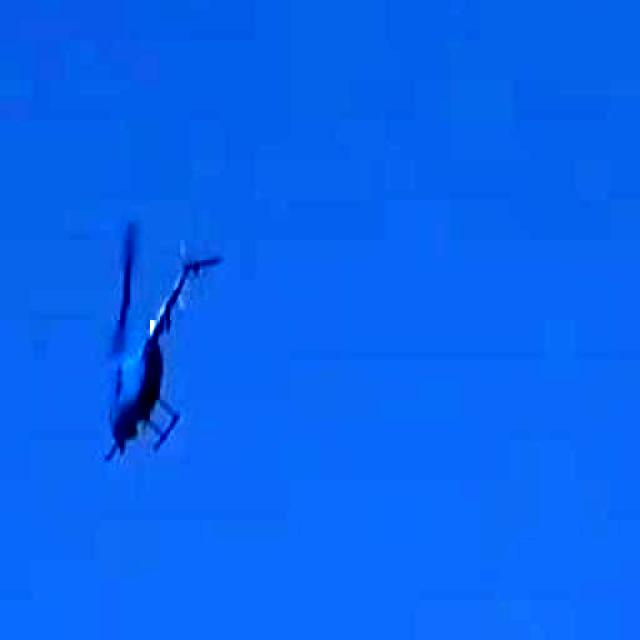drone: (38, 241, 254, 485)
